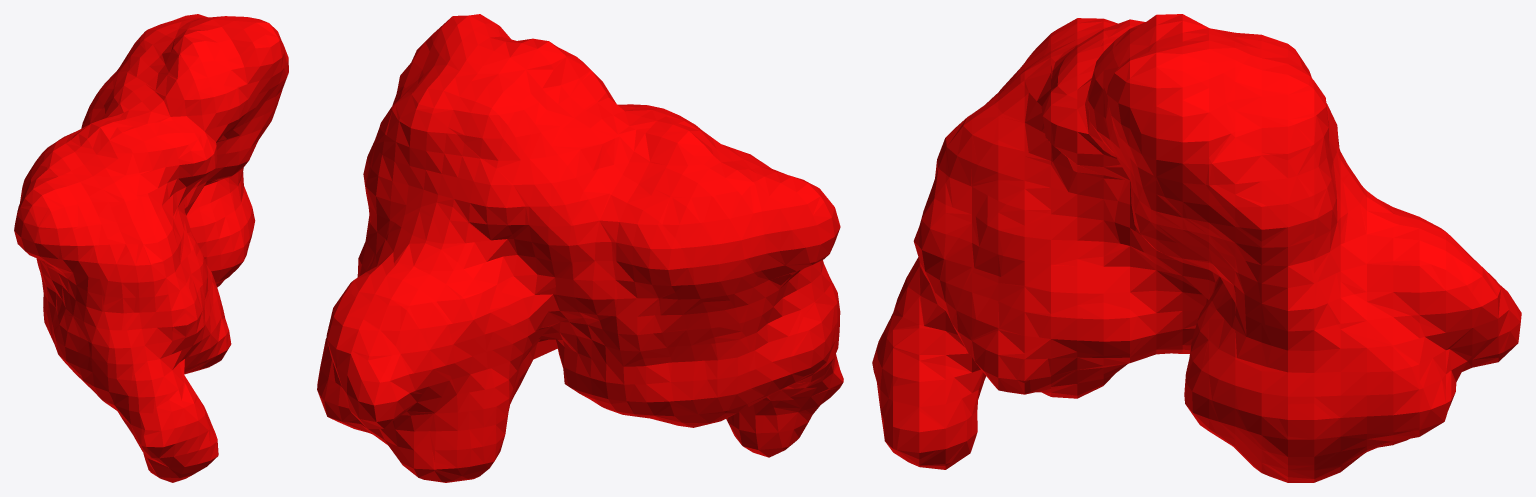
The model's file is ruvB_coarse.dae.
3 views of the same model, side by side, from view 1: azimuth 30°, elevation 25°; view 2: azimuth 150°, elevation 25°; view 3: azimuth 270°, elevation 25° (orthographic). The views are drawn at different scales.
Parts seen in each view (by area): view 1: ruvB; view 2: ruvB; view 3: ruvB.
Part boxes in pixels (x1,y1,x2,y2): ruvB: [14, 14, 288, 482]; ruvB: [317, 14, 843, 482]; ruvB: [872, 14, 1521, 482].
Bounding box in the file's own units: 58.36 × 66.54 × 74.39.
